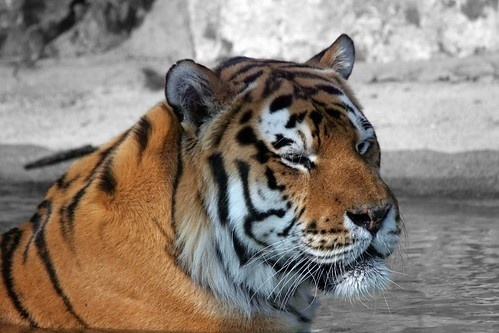tigre: (1, 33, 398, 322)
